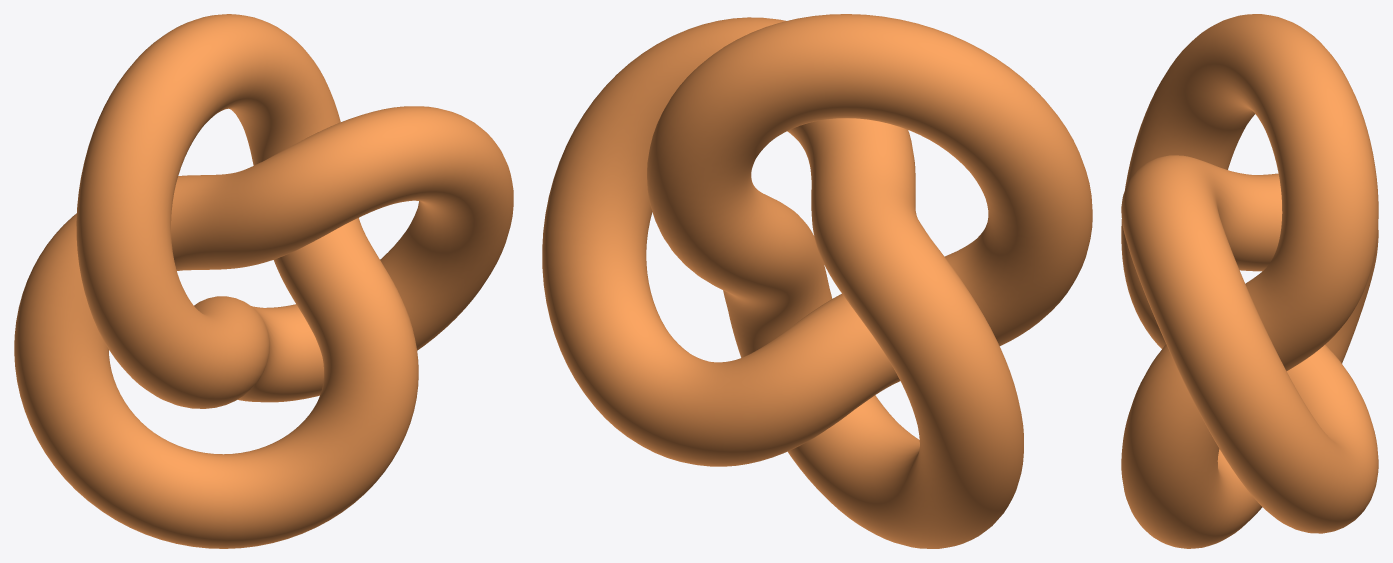
File: knot-draco.glb
The picture shows the model from 3 angles, left to right: view 1: azimuth 30°, elevation 25°; view 2: azimuth 150°, elevation 25°; view 3: azimuth 270°, elevation 25°; orthographic projection. The views are drawn at different scales.
Parts seen in each view (by area): view 1: knot; view 2: knot; view 3: knot.
Part boxes in pixels (<box>): knot: <box>14,14,513,548</box>; knot: <box>542,14,1092,548</box>; knot: <box>1121,14,1378,548</box>.
Size of the model in its own units: 3.28 by 3.43 by 1.6.
